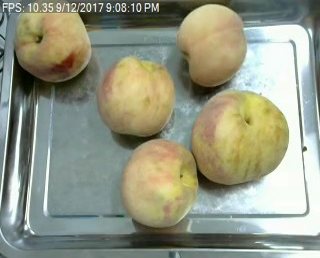Peach: (191, 89, 289, 185), (121, 138, 199, 227), (97, 55, 174, 136), (16, 0, 92, 82), (177, 2, 247, 87)
